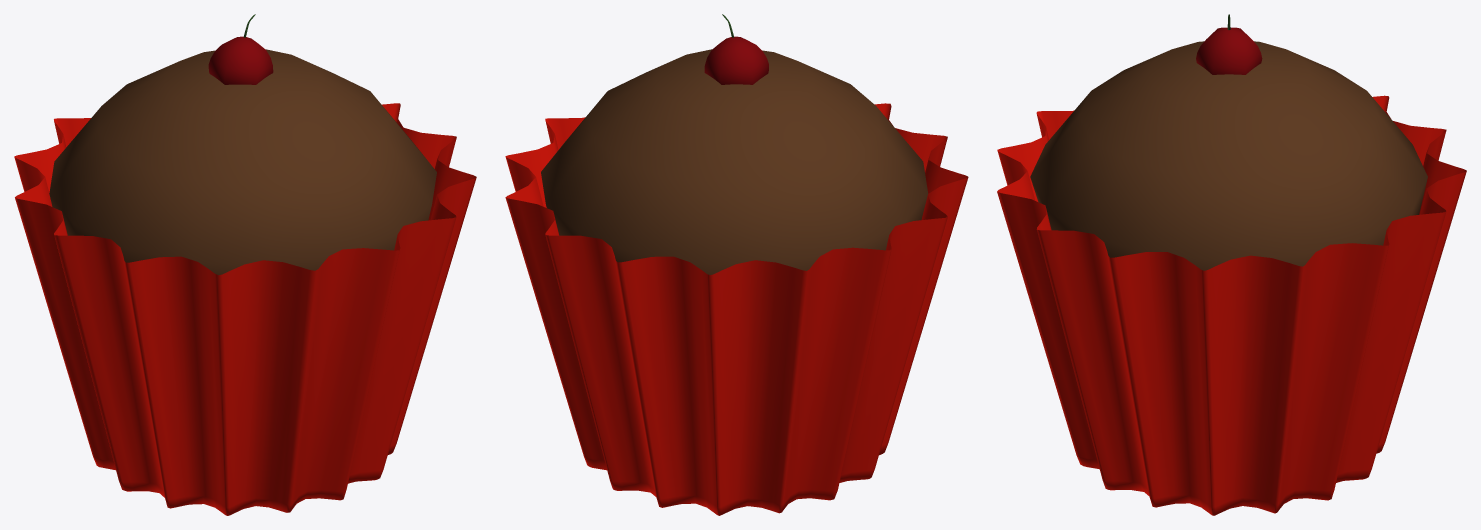
File: bombon.fbx
The picture shows the model from 3 angles, left to right: view 1: azimuth 30°, elevation 25°; view 2: azimuth 150°, elevation 25°; view 3: azimuth 270°, elevation 25°; orthographic projection.
Visible parts, largest first — view 1: Base, Bombon, ciruela; view 2: Base, Bombon, ciruela; view 3: Base, Bombon, ciruela.
Boxes of the visible parts, bbox=[...] form: Base: bbox=[14, 103, 476, 515]; Bombon: bbox=[49, 49, 436, 275]; ciruela: bbox=[208, 36, 273, 84]; Base: bbox=[505, 103, 968, 515]; Bombon: bbox=[541, 49, 928, 274]; ciruela: bbox=[704, 36, 768, 84]; Base: bbox=[997, 95, 1466, 515]; Bombon: bbox=[1030, 41, 1427, 270]; ciruela: bbox=[1196, 27, 1262, 74].
Bounding box in the file's own units: 196 × 205 × 195.
